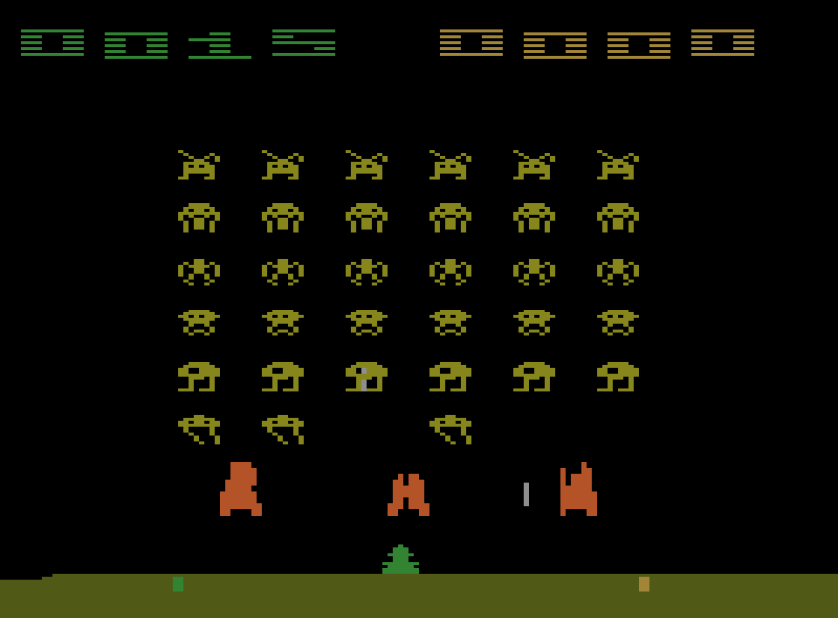bullet: (521, 479, 530, 509), (360, 366, 368, 392)
invader1: (259, 146, 305, 182), (511, 147, 557, 183), (175, 148, 221, 183), (427, 147, 473, 182), (344, 148, 389, 182), (596, 148, 641, 181)
invader2: (343, 200, 389, 234), (176, 200, 221, 234), (511, 201, 557, 234), (260, 201, 305, 234), (428, 201, 473, 234), (596, 202, 640, 234)
invader3: (344, 256, 390, 288), (260, 257, 307, 288), (511, 256, 557, 287), (595, 257, 641, 288), (428, 257, 473, 288), (177, 258, 221, 287)
invader4: (511, 307, 557, 338), (597, 307, 641, 339), (344, 307, 389, 338), (177, 308, 222, 338), (260, 308, 306, 337), (429, 308, 473, 337)
invader5: (595, 359, 640, 394), (260, 360, 306, 394), (343, 360, 390, 393), (177, 359, 221, 394), (512, 361, 557, 393), (428, 361, 472, 393)
invader6: (428, 411, 474, 447), (259, 412, 307, 446), (176, 413, 223, 446)
player: (379, 543, 421, 574)
